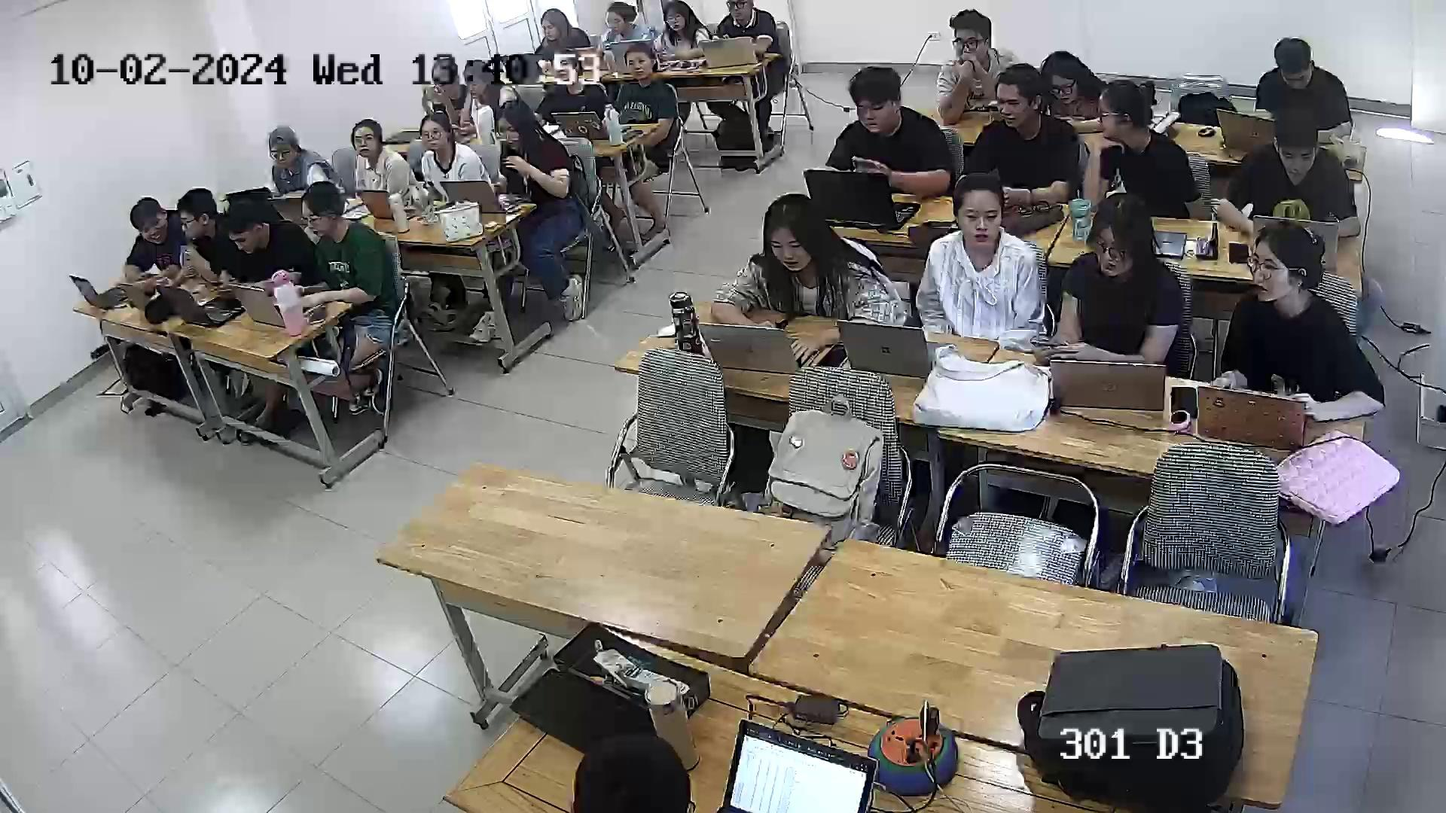Look Around: (1095, 74, 1170, 155)
phone: (839, 149, 892, 183)
